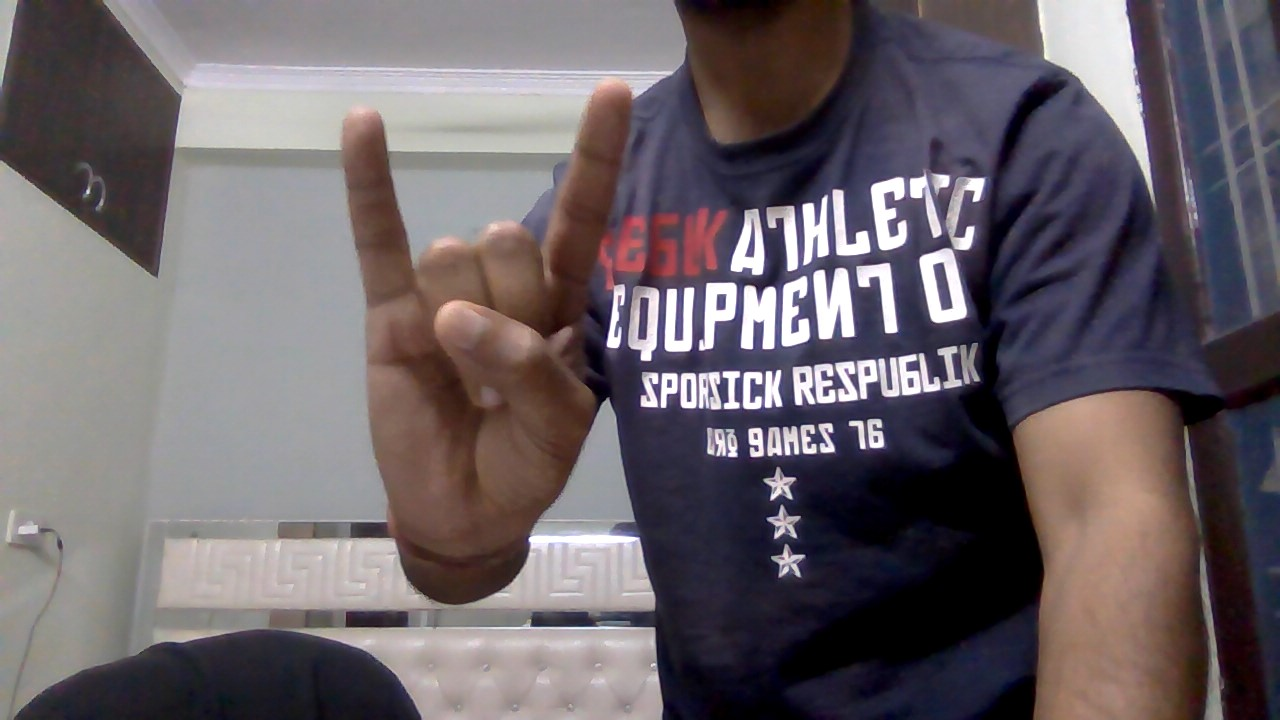Select All: (302, 67, 647, 562)
